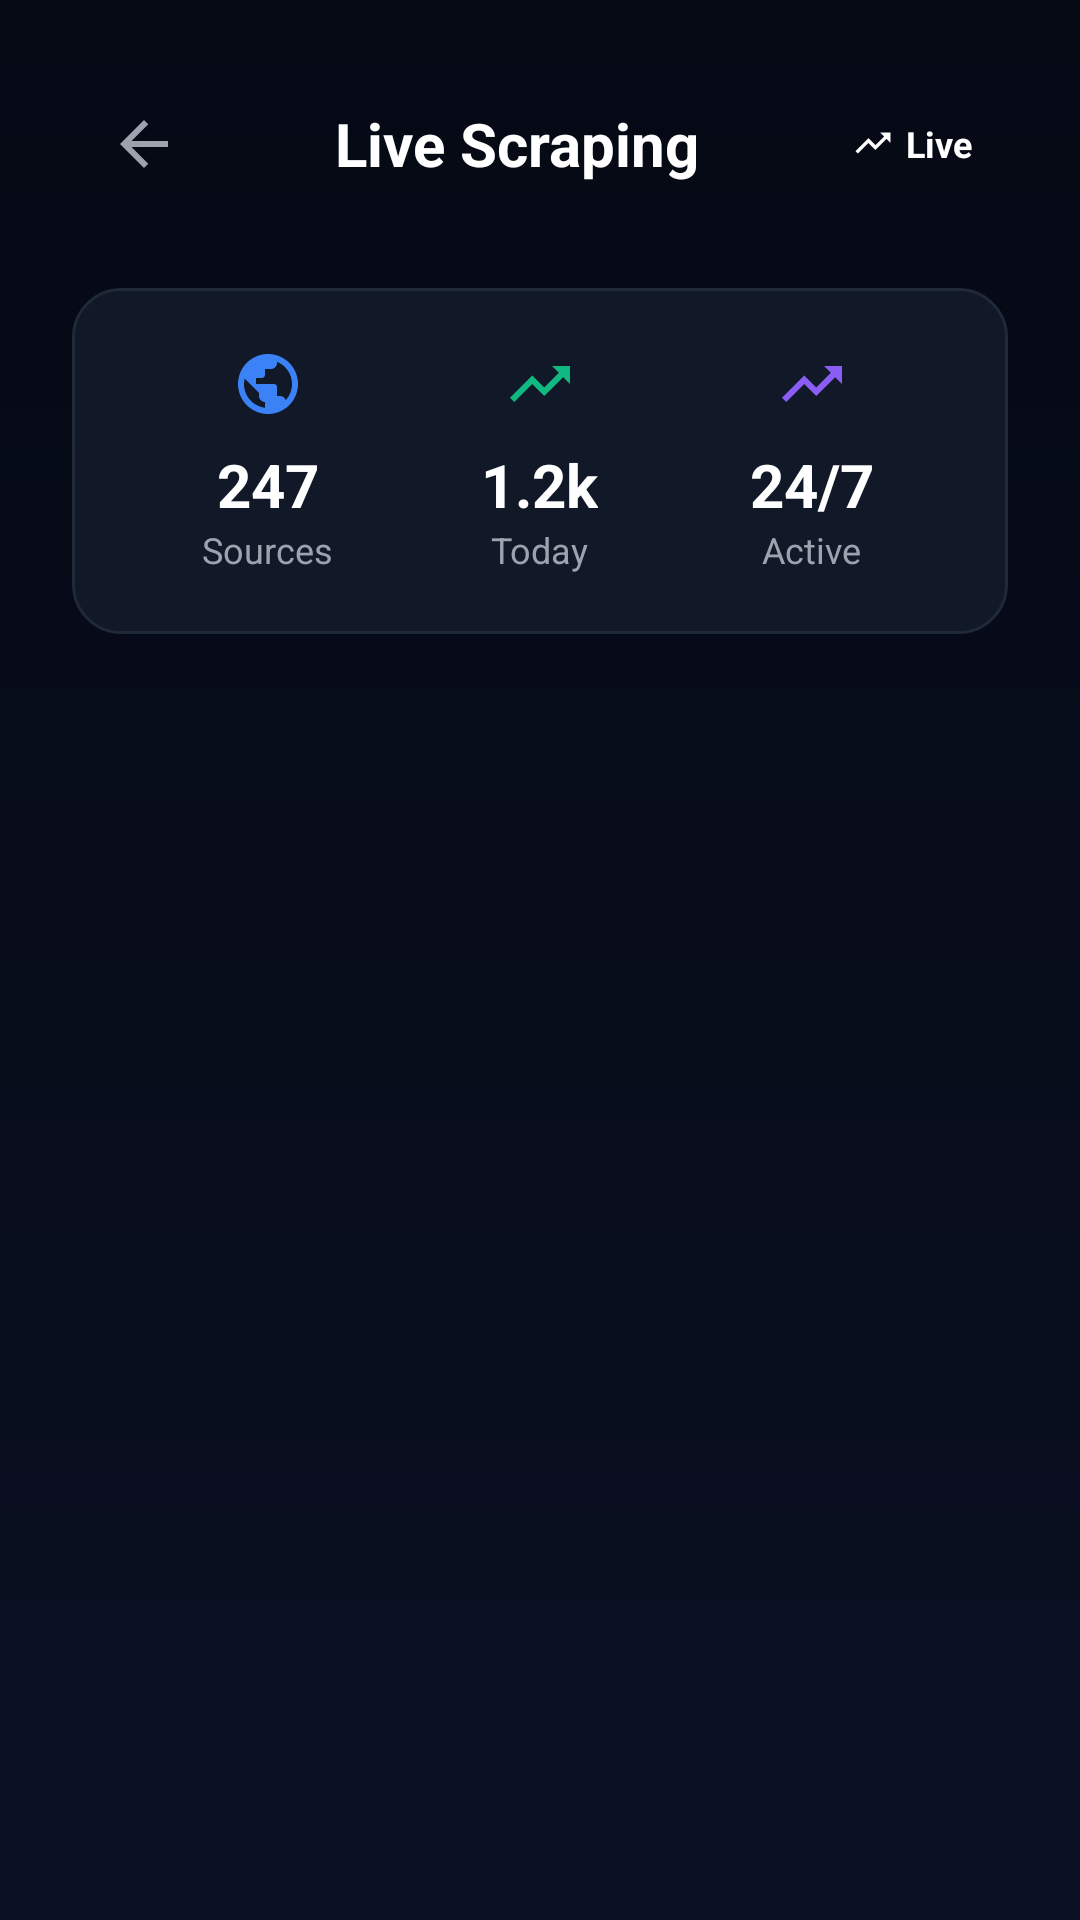

Icon click points for this 1080 x 1920 phone screenshot, format [x,y]:
back arrow: [144,144]
globe: [268,384]
graph: [812,384]
trends: [873,143], [540,384]
